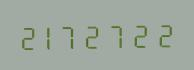one: (40, 20, 62, 50)
seven: (63, 20, 85, 50), (109, 19, 131, 49)
two: (17, 21, 39, 51), (155, 18, 177, 48), (86, 20, 108, 49), (132, 19, 154, 48)
